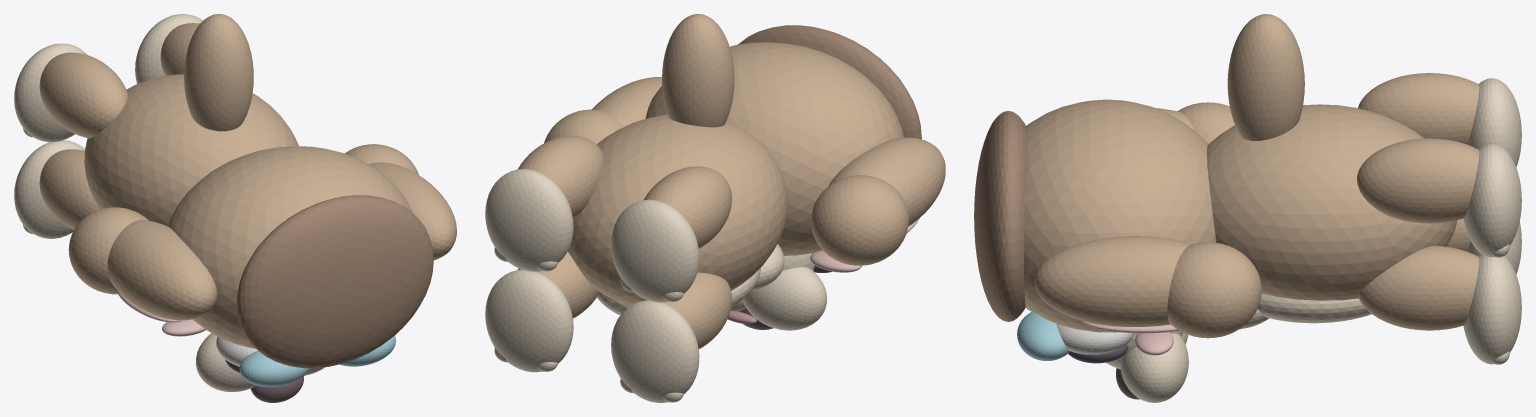
File: dog-02.glb
The picture shows the model from 3 angles, left to right: view 1: azimuth 30°, elevation 25°; view 2: azimuth 150°, elevation 25°; view 3: azimuth 270°, elevation 25°; orthographic projection. The views are drawn at different scales.
Visible parts, largest first — view 1: aviatorCap, head, body, longEarL, tail, legBodybackL, earEndL, legBodyfrontL, longEarR, pawbackL, pawfrontL, pawbackR (+8 smaller); view 2: body, head, earEndL, pawfrontR, pawbackR, pawbackL, pawfrontL, tail, longEarL, aviatorCap, legBodybackL, muzzlePuffL (+9 smaller); view 3: body, head, longEarR, aviatorCap, legBodybackR, tail, legBodyfrontR, earEndR, legBodybackL, pawbackR, pawfrontR, muzzlePuffR (+9 smaller).
Boxes of the visible parts, x1=… form: aviatorCap: x1=236, y1=195, x2=433, y2=368; head: x1=167, y1=146, x2=412, y2=348; body: x1=84, y1=74, x2=298, y2=226; longEarL: x1=107, y1=219, x2=217, y2=320; tail: x1=184, y1=14, x2=253, y2=131; legBodybackL: x1=39, y1=52, x2=127, y2=138; earEndL: x1=68, y1=207, x2=148, y2=294; legBodyfrontL: x1=39, y1=149, x2=99, y2=229; longEarR: x1=368, y1=162, x2=456, y2=260; pawbackL: x1=14, y1=43, x2=87, y2=142; pawfrontL: x1=14, y1=140, x2=84, y2=238; pawbackR: x1=135, y1=14, x2=202, y2=83; body: x1=567, y1=114, x2=787, y2=304; head: x1=645, y1=42, x2=903, y2=255; earEndL: x1=811, y1=175, x2=908, y2=265; pawfrontR: x1=485, y1=269, x2=573, y2=372; pawbackR: x1=485, y1=169, x2=573, y2=271; pawbackL: x1=611, y1=199, x2=699, y2=302; pawfrontL: x1=611, y1=300, x2=699, y2=402; tail: x1=662, y1=14, x2=734, y2=127; longEarL: x1=828, y1=137, x2=945, y2=226; aviatorCap: x1=738, y1=25, x2=921, y2=139; legBodybackL: x1=643, y1=166, x2=732, y2=248; muzzlePuffL: x1=742, y1=267, x2=826, y2=330; body: x1=1206, y1=104, x2=1457, y2=300; head: x1=1024, y1=99, x2=1215, y2=332; longEarR: x1=1034, y1=236, x2=1192, y2=326; aviatorCap: x1=974, y1=111, x2=1026, y2=321; legBodybackR: x1=1357, y1=138, x2=1479, y2=223; tail: x1=1227, y1=14, x2=1304, y2=140; legBodyfrontR: x1=1358, y1=245, x2=1479, y2=330; earEndR: x1=1167, y1=242, x2=1261, y2=338; legBodybackL: x1=1358, y1=73, x2=1479, y2=144; pawbackR: x1=1463, y1=143, x2=1521, y2=257; pawfrontR: x1=1463, y1=254, x2=1521, y2=364; muzzlePuffR: x1=1120, y1=333, x2=1188, y2=402.
Size of the model in its own units: 2.02 by 1.95 by 2.55.
